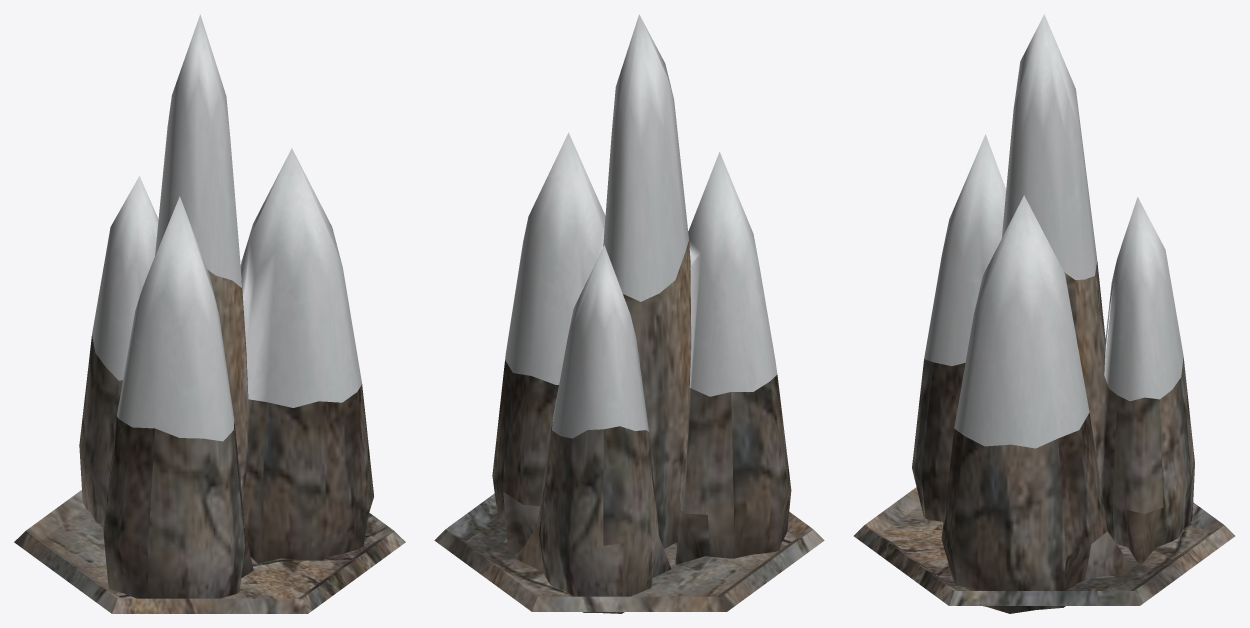
Rendered from mountains.glb.
The picture shows the model from 3 angles, left to right: view 1: azimuth 30°, elevation 25°; view 2: azimuth 150°, elevation 25°; view 3: azimuth 270°, elevation 25°; orthographic projection. The views are drawn at different scales.
Parts seen in each view (by area): view 1: Mountains.001, HexagonTile.002; view 2: Mountains.001, HexagonTile.002; view 3: Mountains.001, HexagonTile.002.
Part boxes in pixels (x1,y1,x2,y2): Mountains.001: (79,14,373,598); HexagonTile.002: (14,490,405,613); Mountains.001: (492,14,791,613); HexagonTile.002: (434,493,824,611); Mountains.001: (912,14,1194,613); HexagonTile.002: (854,487,1234,605).
Bounding box in the file's own units: 1.73 × 3.15 × 2.
Materials: 2 (2 with a texture image).
